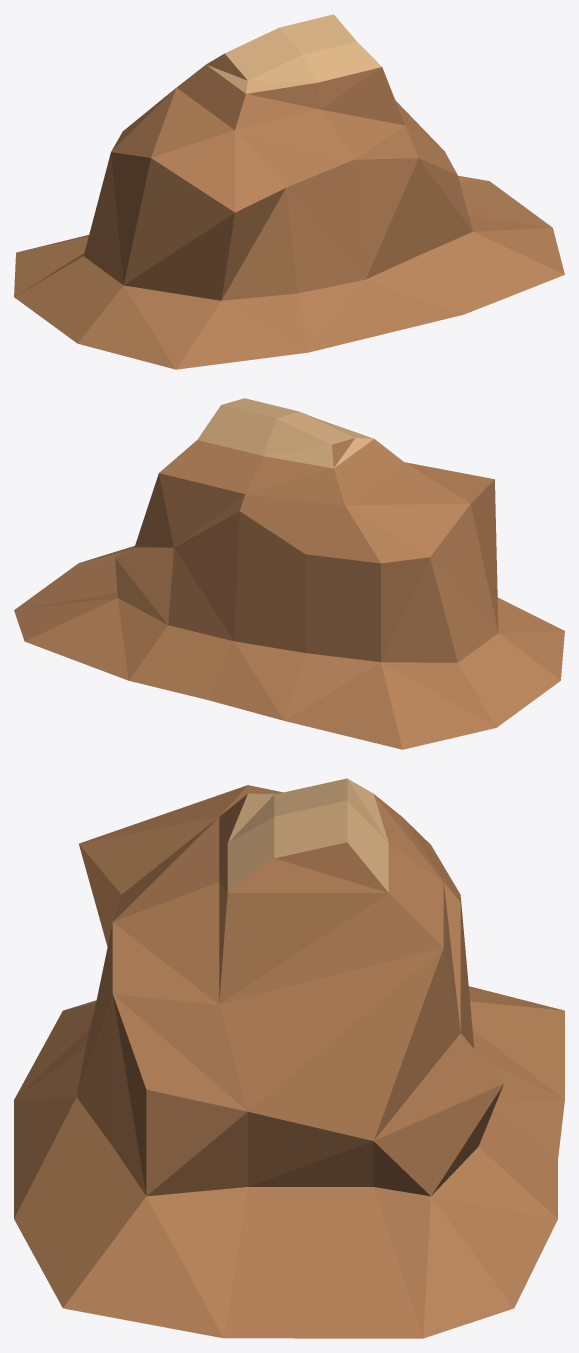
File: Rock_4.fbx
The picture shows the model from 3 angles, top to bottom: view 1: azimuth 30°, elevation 25°; view 2: azimuth 150°, elevation 25°; view 3: azimuth 270°, elevation 25°; orthographic projection. The views are drawn at different scales.
Visible parts, largest first — view 1: Rock_4; view 2: Rock_4; view 3: Rock_4.
Boxes of the visible parts, <box> form: Rock_4: <box>14,14,564,369</box>; Rock_4: <box>14,398,564,749</box>; Rock_4: <box>14,778,564,1338</box>.
Size of the model in its own units: 273 by 175 by 125.
